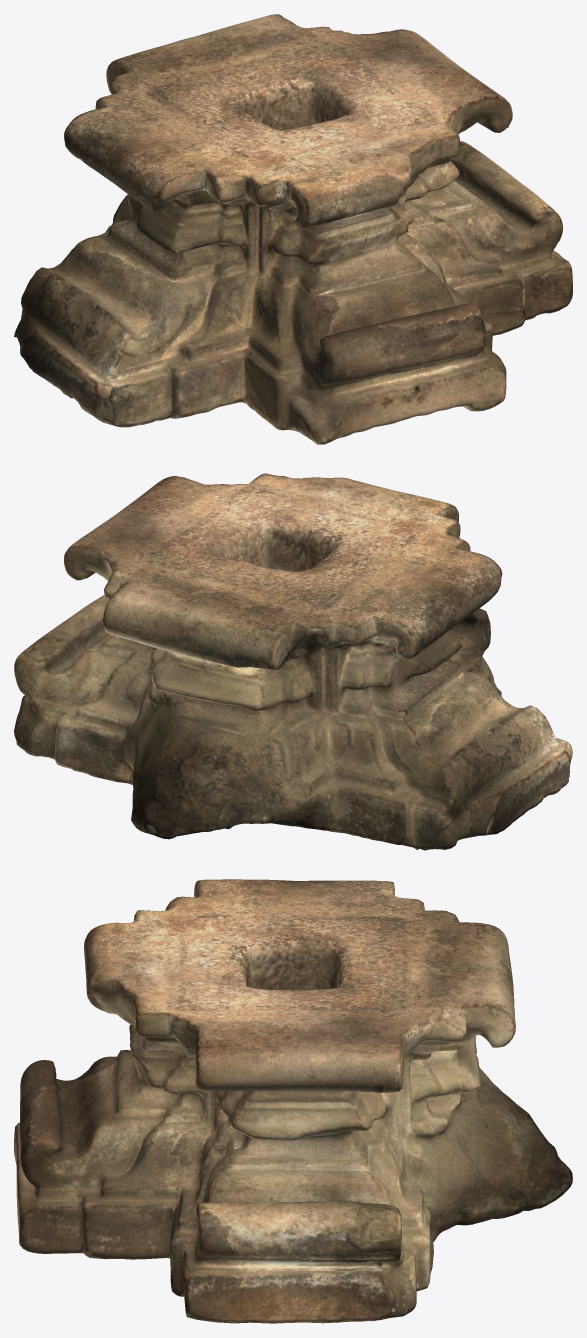
Rendered from 21_detru_final.glb.
3 views of the same model, one above another, from view 1: azimuth 30°, elevation 25°; view 2: azimuth 150°, elevation 25°; view 3: azimuth 270°, elevation 25° (orthographic). The views are drawn at different scales.
Size of the model in its own units: 0.2649 by 0.1248 by 0.2512.
Materials: 1 (1 with a texture image).
